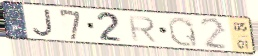2: (198, 16, 232, 51), (95, 10, 127, 46)
7: (58, 7, 82, 41)
J: (31, 8, 55, 37)
Q: (167, 15, 200, 49)
R: (126, 15, 160, 44)
